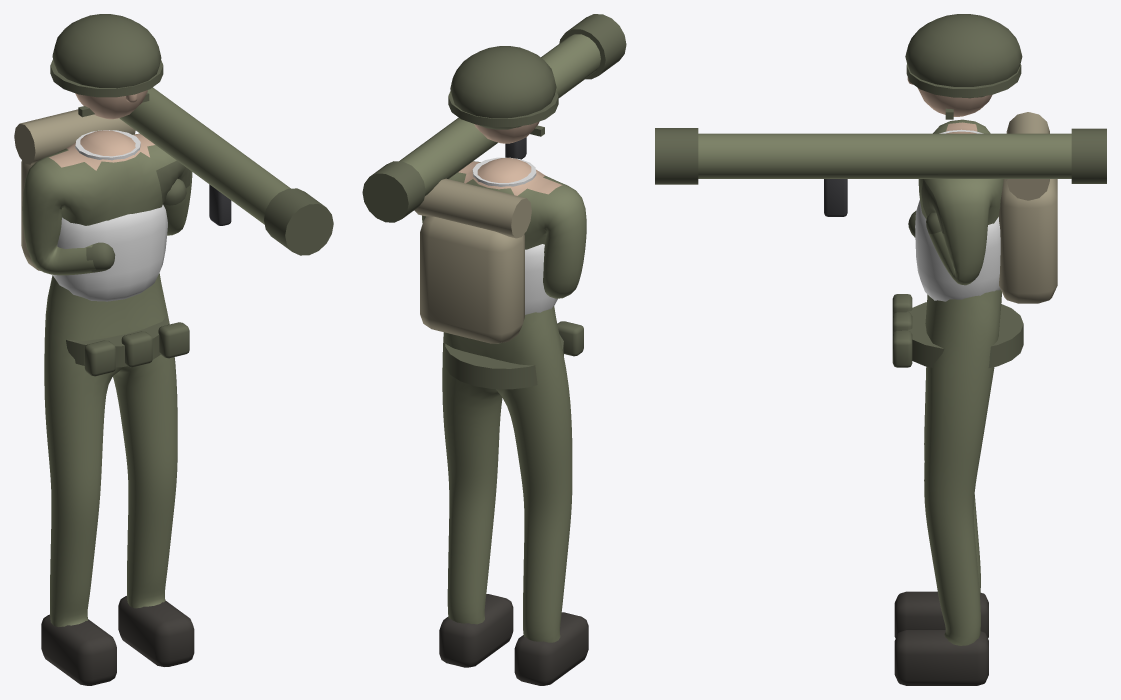
Rendered from bazooka.glb.
The picture shows the model from 3 angles, left to right: view 1: azimuth 30°, elevation 25°; view 2: azimuth 150°, elevation 25°; view 3: azimuth 270°, elevation 25°; orthographic projection. The views are drawn at different scales.
Visible parts, largest first — view 1: body; view 2: body; view 3: body.
Boxes of the visible parts, box(x1,y1,x2,y2) form: body: box(14, 14, 333, 685); body: box(362, 14, 626, 685); body: box(655, 14, 1106, 685).
Size of the model in its own units: 0.4806 by 1.8 by 1.15.
